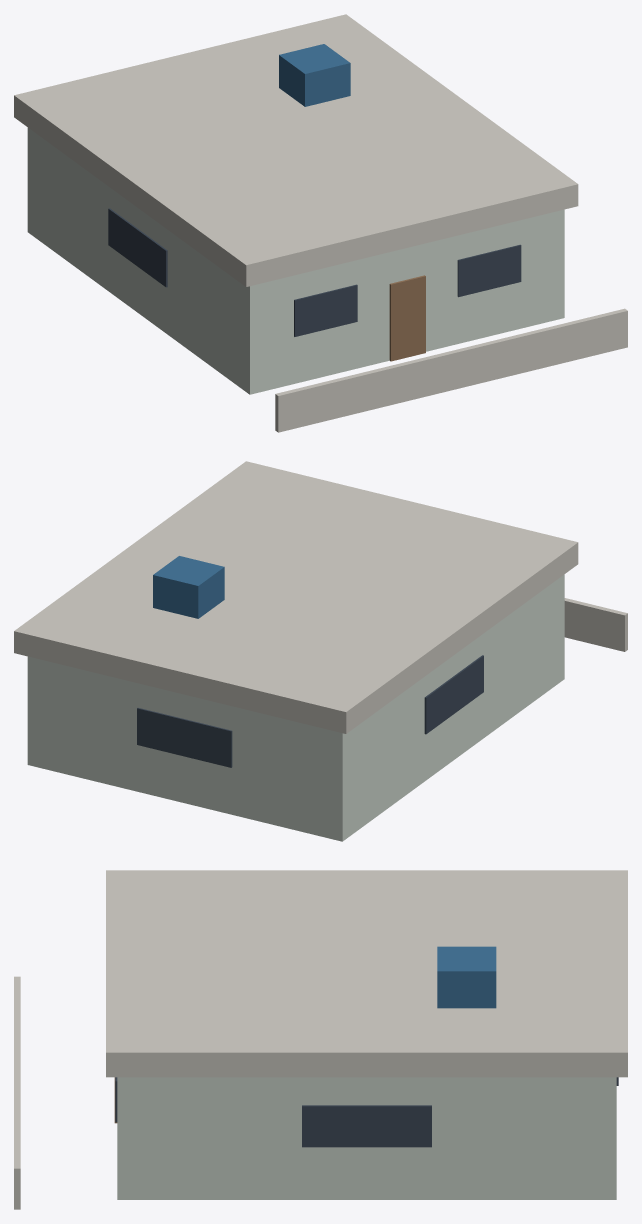
Rendered from casa_3.glb.
3 renders of one model, top to bottom at view 1: azimuth 30°, elevation 25°; view 2: azimuth 150°, elevation 25°; view 3: azimuth 270°, elevation 25°, orthographic. The views are drawn at different scales.
Parts seen in each view (by area): view 1: mu, w, j, cx, por; view 2: mu, w, j, cx; view 3: mu, w, j, cx.
Boxes of the visible parts, x1,y1,x2,y2 form: mu: [14, 14, 627, 432]; w: [27, 127, 564, 394]; j: [108, 208, 521, 336]; cx: [279, 44, 350, 106]; por: [389, 275, 425, 361]; mu: [14, 461, 627, 733]; w: [27, 574, 564, 841]; j: [137, 655, 483, 767]; cx: [153, 556, 224, 618]; mu: [14, 870, 627, 1209]; w: [117, 1077, 616, 1199]; j: [115, 1077, 618, 1147]; cx: [437, 946, 496, 1008].
Size of the model in its own units: 10 by 4.6 by 13.52.
